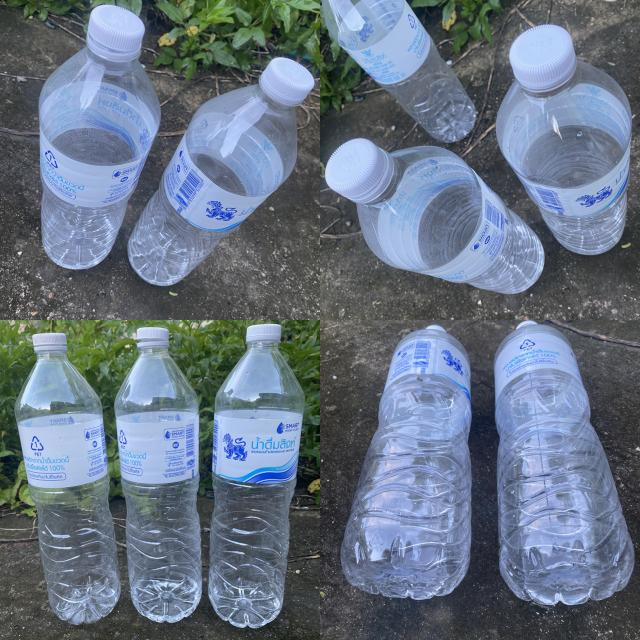plastik: (128, 58, 314, 285), (494, 321, 634, 605), (341, 326, 471, 599), (325, 138, 544, 293), (39, 5, 160, 269), (496, 25, 631, 254), (15, 334, 120, 624), (209, 324, 305, 629), (115, 328, 202, 622), (323, 0, 475, 141)
